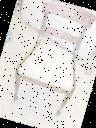Silla: (9, 0, 95, 120)
